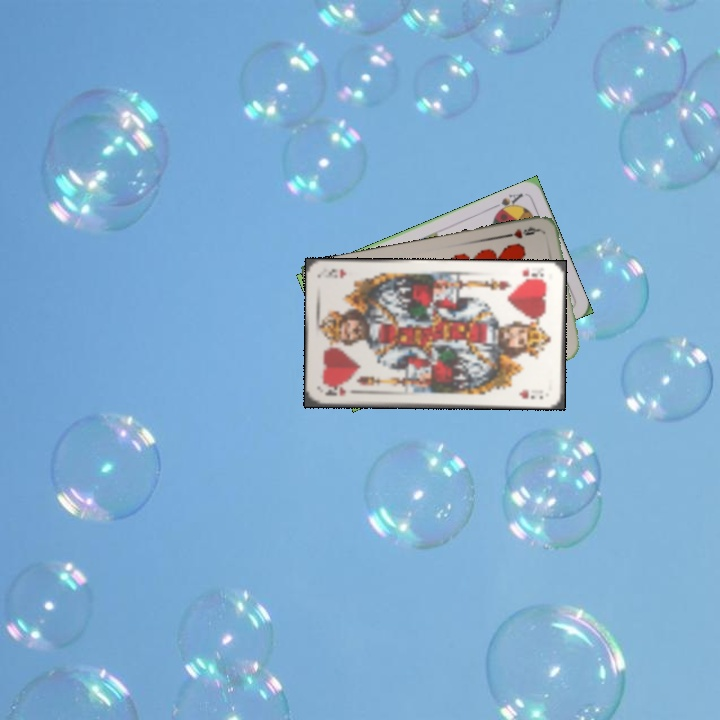H9: (502, 223, 542, 241)
HK: (517, 265, 549, 283), (321, 383, 348, 398)
SA: (488, 189, 526, 217)
